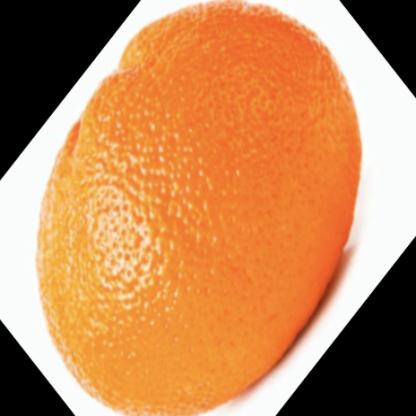fresh: (37, 4, 363, 416)
